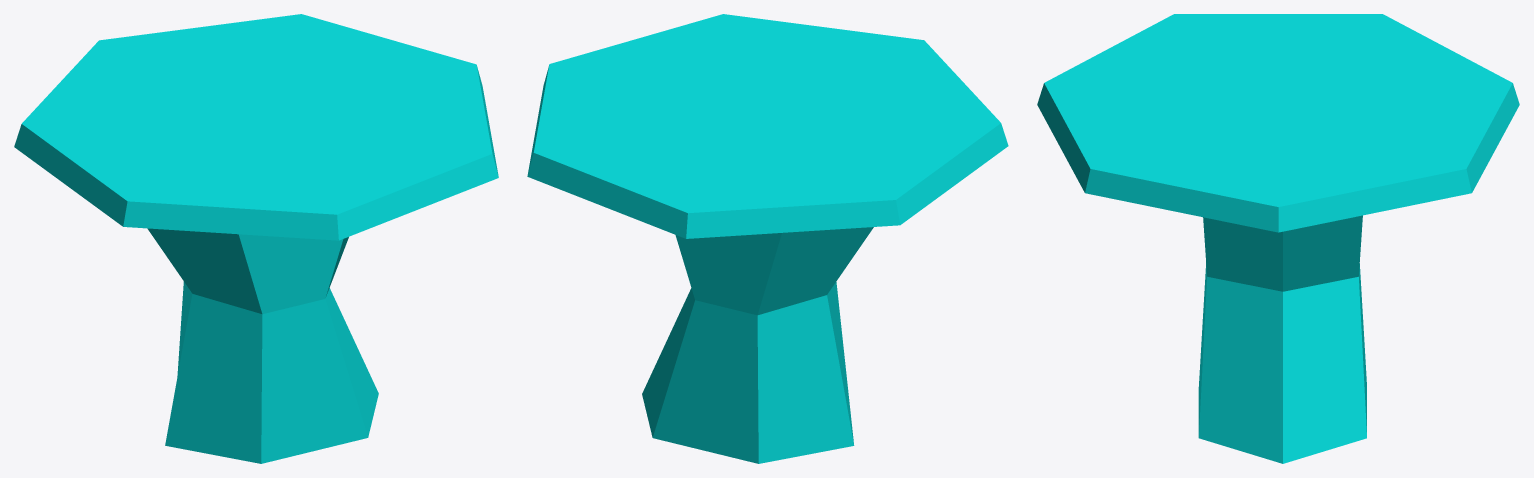
Rendered from SM_Prop_Table_02_Collision.fbx.
The picture shows the model from 3 angles, left to right: view 1: azimuth 30°, elevation 25°; view 2: azimuth 150°, elevation 25°; view 3: azimuth 270°, elevation 25°; orthographic projection.
Visible parts, largest first — view 1: SM_Prop_Table_02_Collision; view 2: SM_Prop_Table_02_Collision; view 3: SM_Prop_Table_02_Collision.
Boxes of the visible parts, x1,y1,x2,y2 form: SM_Prop_Table_02_Collision: (14,14,498,463); SM_Prop_Table_02_Collision: (527,14,1008,463); SM_Prop_Table_02_Collision: (1037,14,1519,463).
Size of the model in its own units: 106 by 75.06 by 108.
